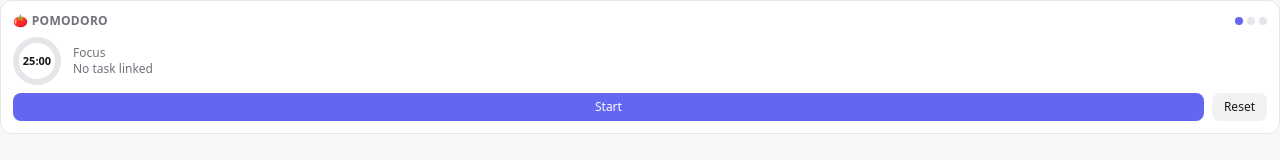
Test: PomodoroWidget › resets the timer
Click the button "Start".
click(608, 107)  # box [13,93,1204,121]
Wait 5000 ms
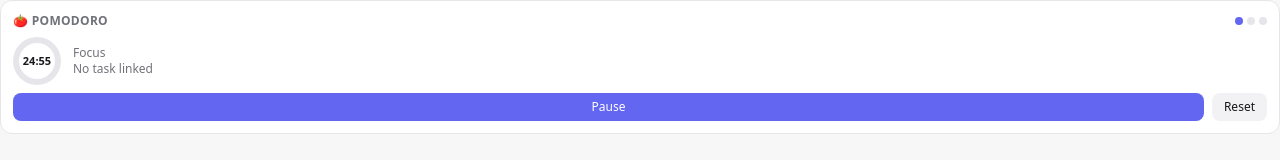
Click the button "Reset".
click(1239, 107)  # box [1212,93,1267,121]
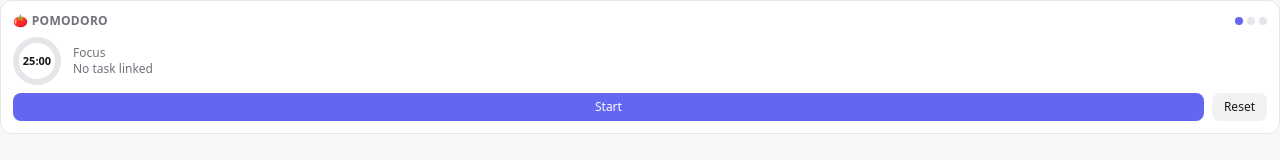
Result: the text "25:00" is shown at [19,43,55,79]
